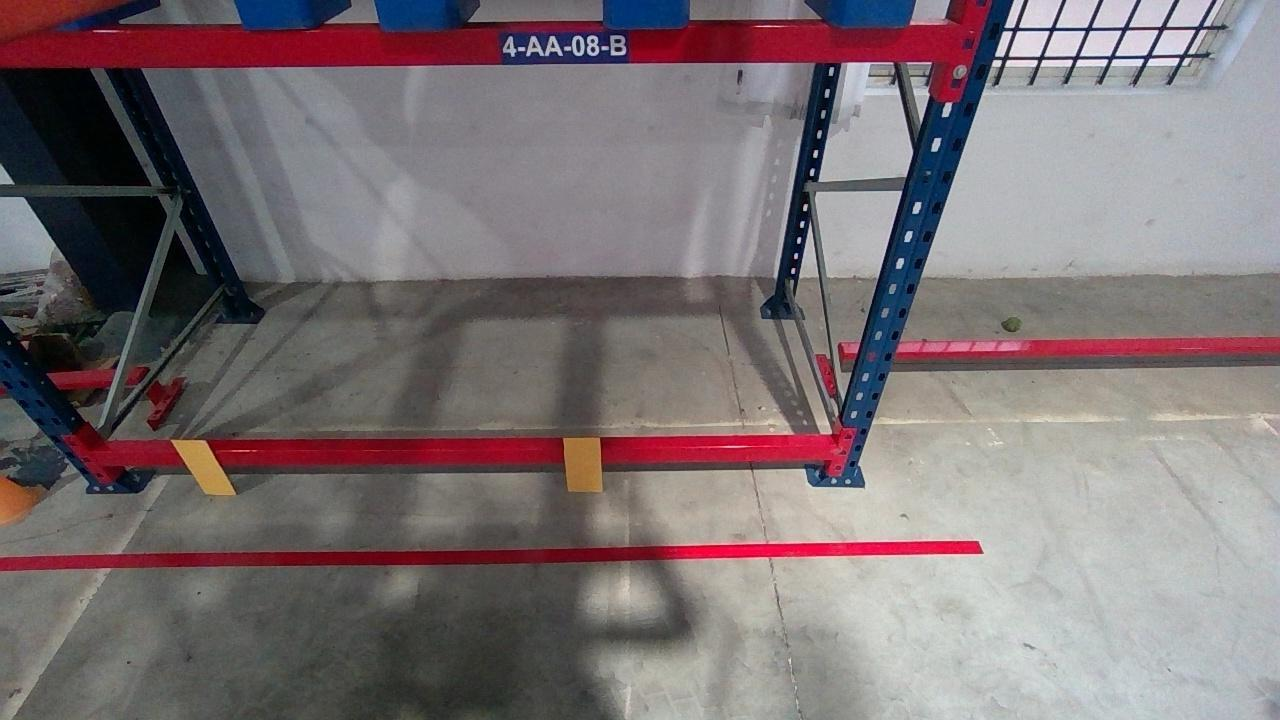h_rack: (4, 21, 957, 68), (88, 443, 838, 467)
orange_strip: (167, 440, 238, 495), (560, 437, 603, 491)
red_line: (0, 540, 980, 566)
small_pallet: (364, 0, 916, 27)
